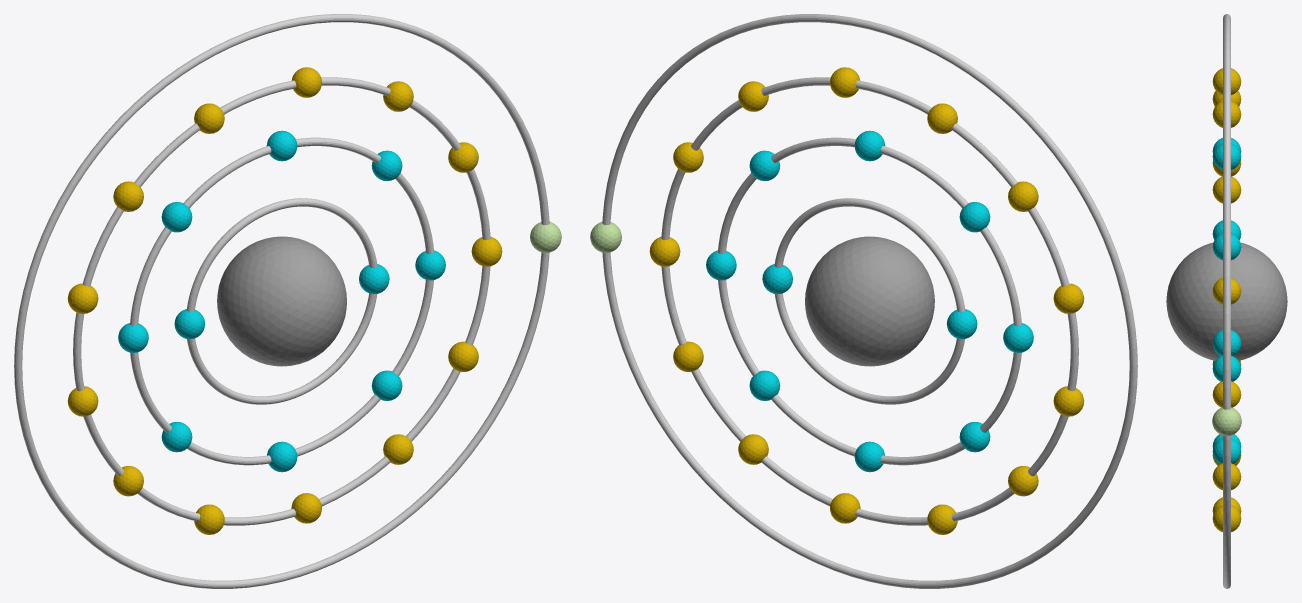
3 renders of one model, left to right at view 1: azimuth 30°, elevation 25°; view 2: azimuth 150°, elevation 25°; view 3: azimuth 270°, elevation 25°, orthographic. The views are drawn at different scales.
Visible parts, largest first — view 1: Camada_4, Nucleo_Cr, Camada_3, Camada_2, Camada_1, e4_1, e3_6, e2_4, e3_12, e3_13, e2_8, e3_5 (+17 smaller); view 2: Camada_4, Nucleo_Cr, Camada_3, Camada_2, Camada_1, e4_1, e3_6, e2_4, e3_12, e3_13, e2_8, e3_5 (+17 smaller); view 3: Nucleo_Cr, Camada_4, e4_1, e2_2, e2_3, e3_2, e3_5, e3_12, e3_13, e3_3, e3_4, e2_1 (+5 smaller).
Part boxes in pixels (x1=…): Camada_4: x1=14, y1=14, x2=549, y2=588; Nucleo_Cr: x1=217, y1=236, x2=346, y2=366; Camada_3: x1=73, y1=77, x2=490, y2=525; Camada_2: x1=130, y1=137, x2=433, y2=465; Camada_1: x1=186, y1=198, x2=377, y2=404; e4_1: x1=530, y1=222, x2=561, y2=252; e3_6: x1=113, y1=181, x2=143, y2=211; e2_4: x1=161, y1=202, x2=192, y2=232; e3_12: x1=383, y1=434, x2=413, y2=464; e3_13: x1=448, y1=341, x2=478, y2=371; e2_8: x1=371, y1=370, x2=402, y2=400; e3_5: x1=194, y1=103, x2=224, y2=133; Camada_4: x1=602, y1=14, x2=1137, y2=588; Nucleo_Cr: x1=805, y1=236, x2=934, y2=366; Camada_3: x1=661, y1=77, x2=1078, y2=525; Camada_2: x1=718, y1=137, x2=1021, y2=465; Camada_1: x1=774, y1=198, x2=965, y2=404; e4_1: x1=590, y1=222, x2=621, y2=252; e3_6: x1=1008, y1=181, x2=1038, y2=211; e2_4: x1=959, y1=202, x2=990, y2=232; e3_12: x1=738, y1=434, x2=768, y2=464; e3_13: x1=673, y1=341, x2=703, y2=371; e2_8: x1=749, y1=370, x2=780, y2=400; e3_5: x1=927, y1=103, x2=957, y2=133; Nucleo_Cr: x1=1166, y1=242, x2=1287, y2=360; Camada_4: x1=1223, y1=14, x2=1230, y2=588; e4_1: x1=1212, y1=407, x2=1241, y2=435; e2_2: x1=1212, y1=233, x2=1241, y2=260; e2_3: x1=1212, y1=143, x2=1241, y2=170; e3_2: x1=1212, y1=277, x2=1241, y2=304; e3_5: x1=1212, y1=68, x2=1241, y2=95; e3_12: x1=1212, y1=505, x2=1241, y2=532; e3_13: x1=1212, y1=463, x2=1241, y2=490; e3_3: x1=1212, y1=176, x2=1241, y2=203; e3_4: x1=1212, y1=101, x2=1241, y2=127; e2_1: x1=1212, y1=355, x2=1241, y2=381.
Size of the model in its own units: 2.13 by 2.09 by 0.44.
